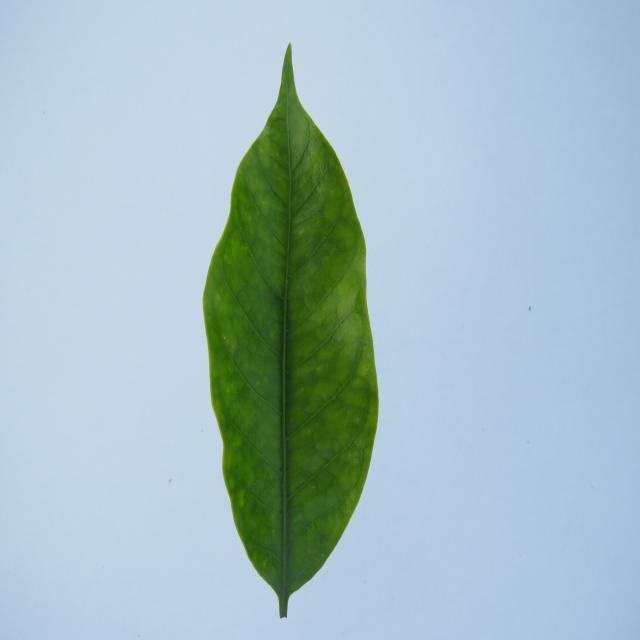DeficienciaNutricional-Hierro: (204, 45, 379, 617)
